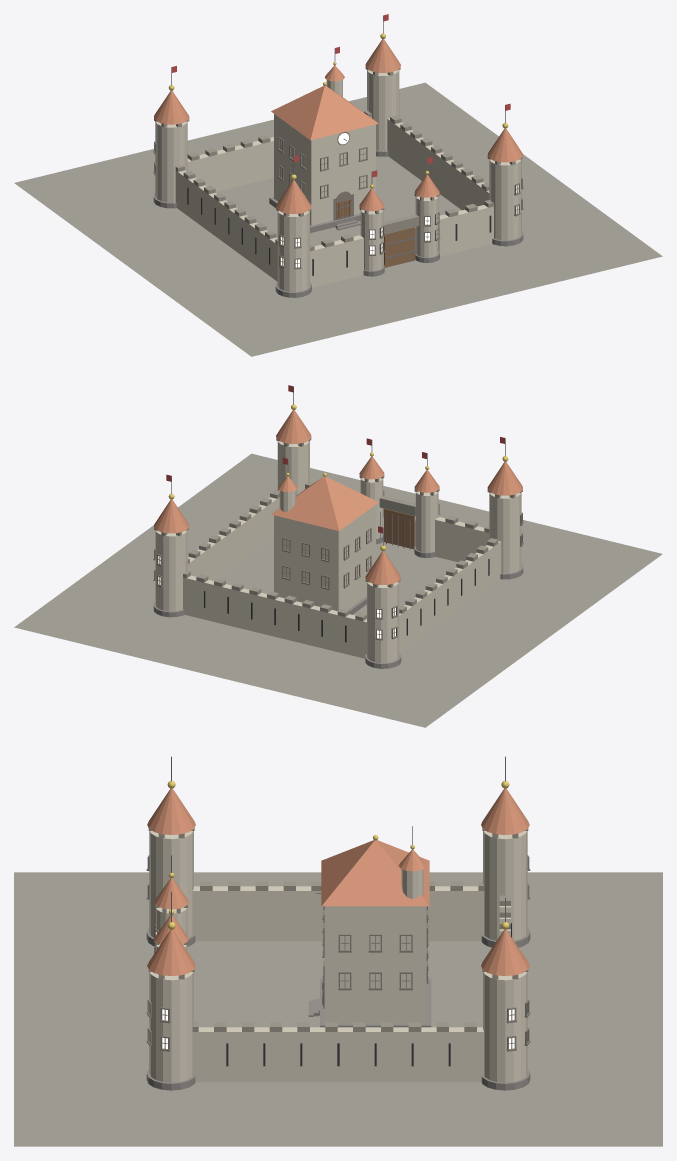
The model's file is Castle2.glb.
3 renders of one model, top to bottom at view 1: azimuth 30°, elevation 25°; view 2: azimuth 150°, elevation 25°; view 3: azimuth 270°, elevation 25°, orthographic. The views are drawn at different scales.
Visible parts, largest first — view 1: Courtyard_Ground, Keep, Wall_West, Wall_East, Wall_North, CornerTower_SW, CornerTower_SE, CornerTower_NW, CornerTower_NE, Wall_Front_Right, Wall_Front_Left, Castle_Windows (+4 smaller); view 2: Courtyard_Ground, Keep, Wall_North, Wall_West, Wall_East, CornerTower_NW, CornerTower_NE, CornerTower_SW, CornerTower_SE, Wall_Front_Left, Castle_Windows, GateHouse_TowerL (+2 smaller); view 3: Courtyard_Ground, Keep, Wall_East, Wall_West, CornerTower_NE, CornerTower_SE, CornerTower_NW, CornerTower_SW, Castle_Windows, GateHouse_TowerL, Keep_Base.
Part boxes in pixels (bbox=[...]): Courtyard_Ground: bbox=[14, 82, 662, 356]; Keep: bbox=[271, 62, 378, 225]; Wall_West: bbox=[175, 165, 277, 281]; Wall_East: bbox=[387, 115, 489, 210]; Wall_North: bbox=[187, 110, 371, 191]; CornerTower_SW: bbox=[276, 174, 311, 291]; CornerTower_SE: bbox=[487, 123, 522, 240]; CornerTower_NW: bbox=[154, 85, 189, 202]; CornerTower_NE: bbox=[365, 33, 400, 150]; Wall_Front_Right: bbox=[438, 200, 493, 256]; Wall_Front_Left: bbox=[310, 234, 363, 287]; Castle_Windows: bbox=[153, 132, 523, 269]; Courtyard_Ground: bbox=[14, 453, 662, 727]; Keep: bbox=[271, 473, 378, 611]; Wall_North: bbox=[183, 571, 366, 658]; Wall_West: bbox=[399, 538, 501, 652]; Wall_East: bbox=[187, 490, 279, 580]; CornerTower_NW: bbox=[365, 545, 400, 662]; CornerTower_NE: bbox=[154, 494, 189, 611]; CornerTower_SW: bbox=[487, 456, 522, 573]; CornerTower_SE: bbox=[276, 404, 311, 495]; Wall_Front_Left: bbox=[435, 515, 489, 561]; Castle_Windows: bbox=[153, 490, 523, 640]; GateHouse_TowerL: bbox=[414, 466, 439, 552]; Courtyard_Ground: bbox=[14, 872, 662, 1146]; Keep: bbox=[321, 835, 429, 1023]; Wall_East: bbox=[192, 1022, 484, 1082]; Wall_West: bbox=[192, 881, 484, 941]; CornerTower_NE: bbox=[481, 922, 529, 1082]; CornerTower_SE: bbox=[147, 922, 195, 1082]; CornerTower_NW: bbox=[481, 781, 529, 940]; CornerTower_SW: bbox=[147, 781, 195, 937]; Castle_Windows: bbox=[146, 855, 530, 1051]; GateHouse_TowerL: bbox=[154, 872, 188, 934]; Keep_Base: bbox=[320, 978, 431, 1027].
Bounding box in the file's own units: 70 × 23.75 × 70.
